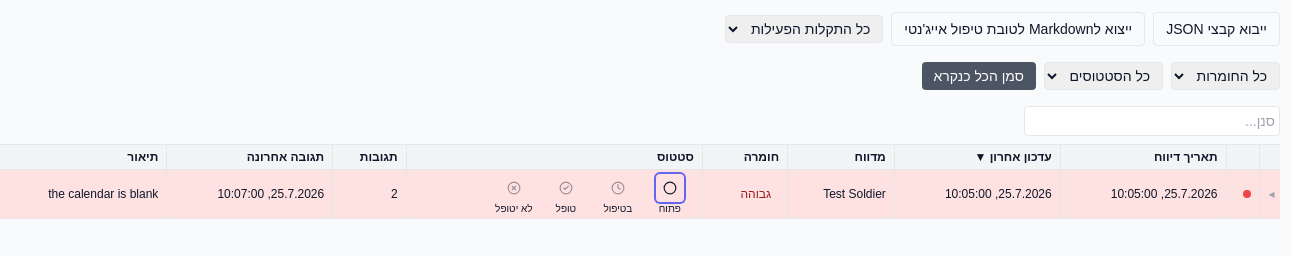
BugReportsContent › shows an inline error and does not crash when the status update fails
What coordinates should you click on to do the following:
click the button with test id "bug-report-status-resolved-r1"
I would click on:
 (566, 188)
Its box is [552,174,580,202].
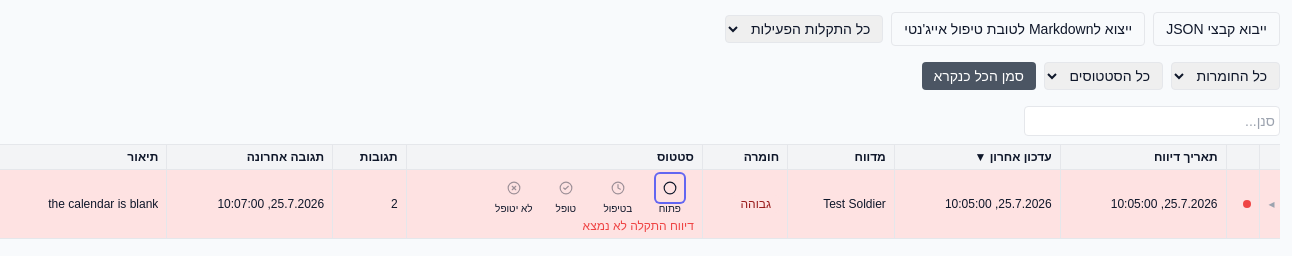
Expected: the text with test id "bug-report-status-error-r1" reads "דיווח התקלה לא נמצא", [583,219,694,233]
